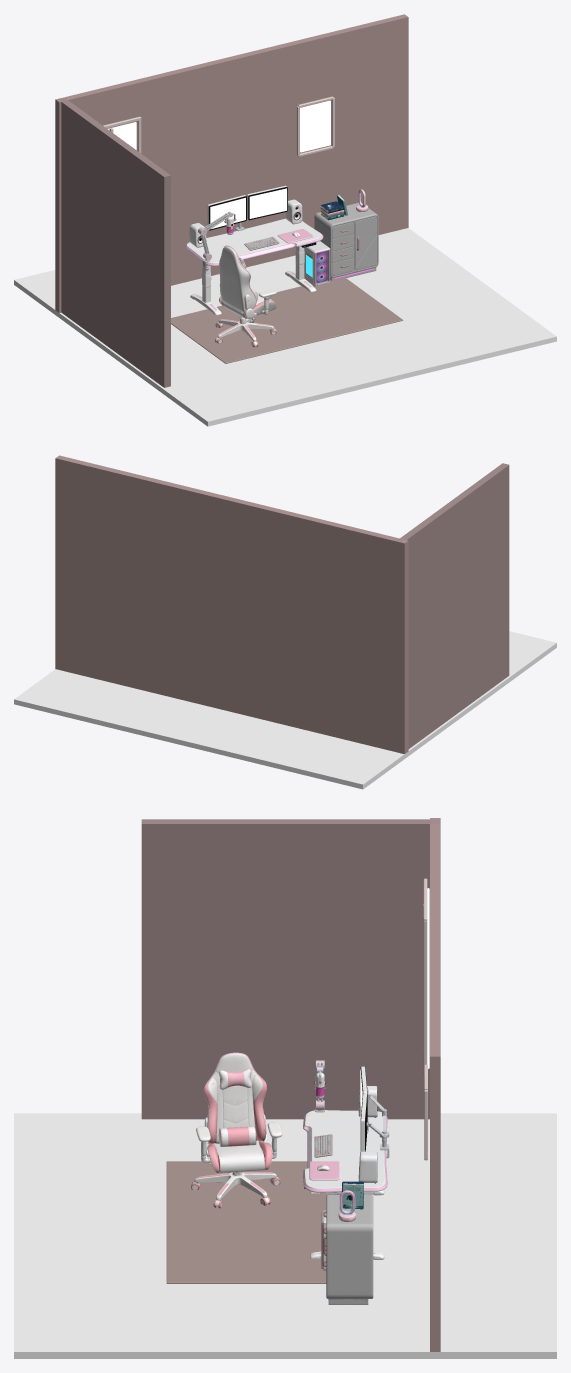
3 views of the same model, one above another, from view 1: azimuth 30°, elevation 25°; view 2: azimuth 150°, elevation 25°; view 3: azimuth 270°, elevation 25° (orthographic). The views are drawn at different scales.
Visible parts, largest first — view 1: Architecture_Back_Wall, Architecture_Floor, Architecture_Left_Wall, Decor_Rug, GEO_Desk_Moving_Top, GEO_Chair_Swivel_Upper, GEO_Cabinet_Body, Wall_Art_Art, GEO_Door_Right_Front, 04-pc-tower_mesh_01, Screen_Right, GEO_Chair_Static_Base (+2 smaller); view 2: Architecture_Back_Wall, Architecture_Left_Wall, Architecture_Floor; view 3: Architecture_Floor, Architecture_Left_Wall, Decor_Rug, GEO_Chair_Swivel_Upper, Architecture_Back_Wall, GEO_Cabinet_Body, GEO_Desk_Moving_Top, GEO_Chair_Static_Base, Window_Frame_V.001, GEO_Chair_Lumbar_Detachable.
Boxes of the visible parts, x1,y1,x2,y2 form: Architecture_Back_Wall: [55, 14, 408, 312]; Architecture_Floor: [14, 228, 556, 426]; Architecture_Left_Wall: [58, 98, 170, 387]; Decor_Rug: [171, 277, 403, 363]; GEO_Desk_Moving_Top: [185, 218, 323, 274]; GEO_Chair_Swivel_Upper: [219, 245, 276, 321]; GEO_Cabinet_Body: [314, 202, 378, 280]; Wall_Art_Art: [300, 100, 330, 152]; GEO_Door_Right_Front: [355, 216, 377, 270]; 04-pc-tower_mesh_01: [304, 241, 330, 286]; Screen_Right: [249, 188, 286, 218]; GEO_Chair_Static_Base: [215, 317, 276, 347]; Architecture_Back_Wall: [55, 455, 408, 753]; Architecture_Left_Wall: [396, 463, 509, 748]; Architecture_Floor: [14, 631, 556, 789]; Architecture_Floor: [14, 1113, 556, 1358]; Architecture_Left_Wall: [141, 819, 440, 1119]; Decor_Rug: [166, 1161, 334, 1283]; GEO_Chair_Swivel_Upper: [196, 1052, 282, 1173]; Architecture_Back_Wall: [430, 818, 440, 1351]; GEO_Cabinet_Body: [326, 1194, 373, 1304]; GEO_Desk_Moving_Top: [303, 1110, 387, 1194]; GEO_Chair_Static_Base: [191, 1172, 280, 1208]; Window_Frame_V.001: [423, 921, 427, 1075]; GEO_Chair_Lumbar_Detachable: [218, 1126, 256, 1146].
Bounding box in the file's own units: 5.2 × 3.07 × 5.
32 materials, 15 textured.
